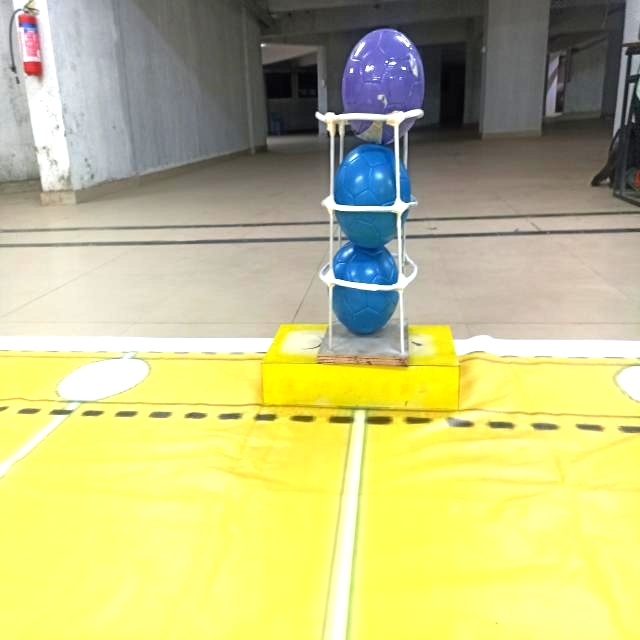blue_ball: (329, 134, 412, 250), (330, 245, 402, 331)
purple_ball: (337, 30, 430, 139)
silo: (310, 98, 422, 364)
